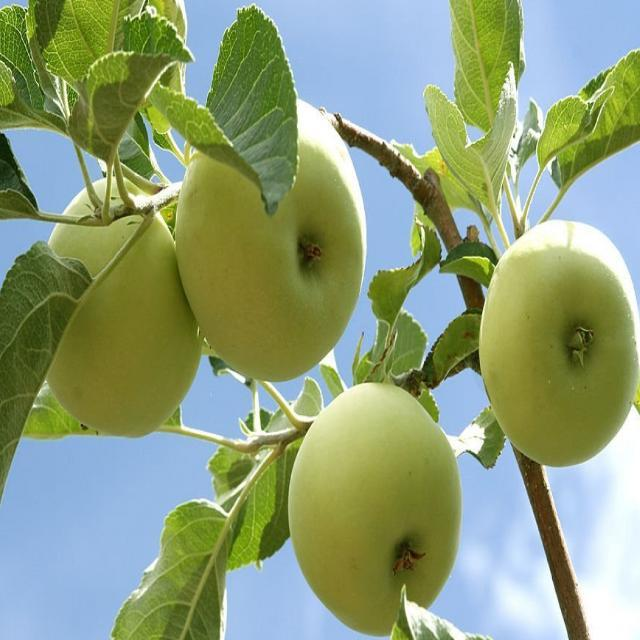Green Apple: (174, 103, 348, 378), (295, 374, 455, 636), (41, 172, 191, 446), (481, 224, 638, 459)
